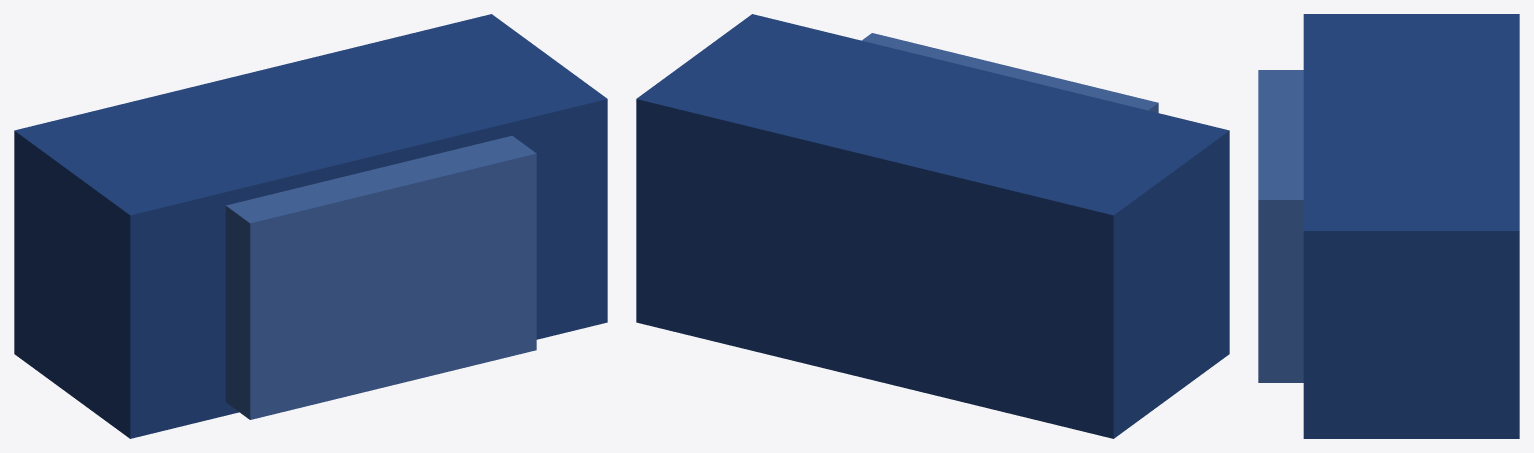
File: suv.obj
3 renders of one model, left to right at view 1: azimuth 30°, elevation 25°; view 2: azimuth 150°, elevation 25°; view 3: azimuth 270°, elevation 25°, orthographic. The views are drawn at different scales.
Visible parts, largest first — view 1: body, roof; view 2: body, roof; view 3: body, roof.
Part boxes in pixels (x1,y1,x2,y2): body: (14,14,607,438); roof: (225,136,536,419); body: (636,14,1229,438); roof: (862,33,1158,112); body: (1303,14,1519,438); roof: (1258,70,1303,382).
Size of the model in its own units: 76 by 34 by 38.72.
